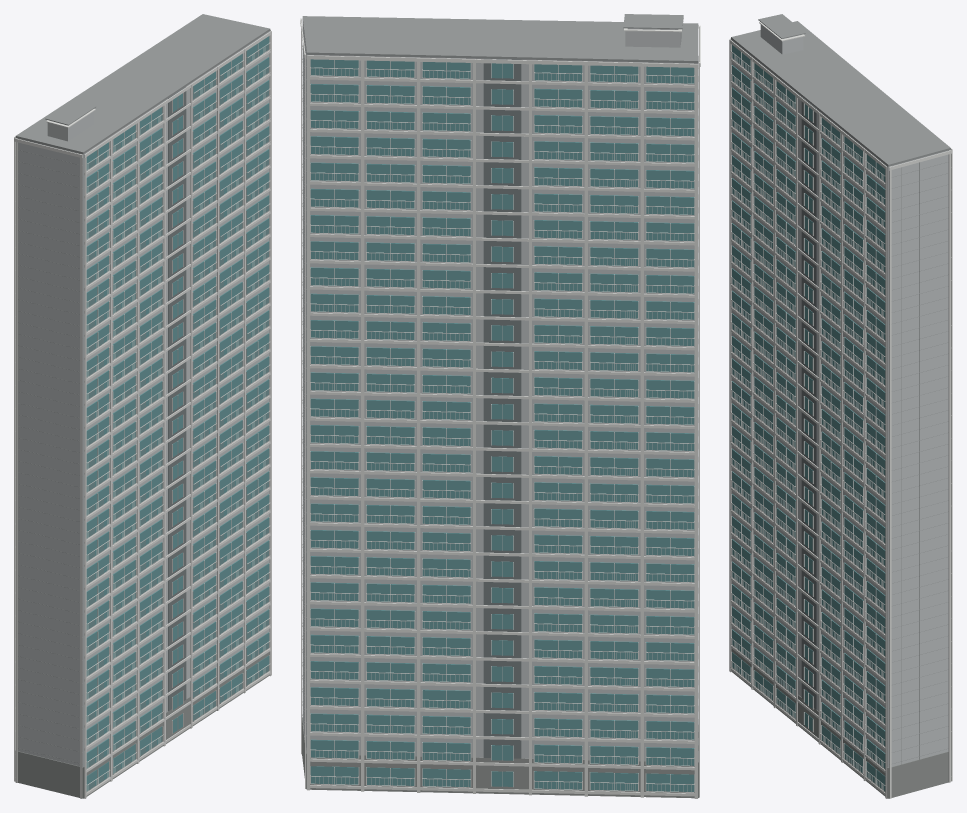
File: bespoke-jamsil-ricenz-239.glb
3 views of the same model, side by side, from view 1: azimuth 30°, elevation 25°; view 2: azimuth 150°, elevation 25°; view 3: azimuth 270°, elevation 25° (orthographic). The views are drawn at different scales.
Parts seen in each view (by area): view 1: Ricenz239_editable_Ricenz239_turquoise_balcony_glazing, Ricenz239_editable_Ricenz239_light_grey_solid_wall, Ricenz239_white_exact_chunk_2, Ricenz239_white_exact_chunk_0, Ricenz239_white_exact_chunk_1, Ricenz239_editable_Ricenz239_modest_grey_flat_roof_caps, Ricenz239_editable_Ricenz239_narrow_charcoal_service_strips, Ricenz239_editable_Ricenz239_muted_ground_wall, Ricenz239_white_exact_chunk_5; view 2: Ricenz239_editable_Ricenz239_turquoise_balcony_glazing, Ricenz239_editable_Ricenz239_light_grey_solid_wall, Ricenz239_white_exact_chunk_3, Ricenz239_white_exact_chunk_4, Ricenz239_white_exact_chunk_5, Ricenz239_editable_Ricenz239_modest_grey_flat_roof_caps, Ricenz239_editable_Ricenz239_narrow_charcoal_service_strips, Ricenz239_white_exact_chunk_2, Ricenz239_editable_Ricenz239_muted_ground_wall, Ricenz239_white_exact_chunk_0; view 3: Ricenz239_editable_Ricenz239_light_grey_solid_wall, Ricenz239_editable_Ricenz239_turquoise_balcony_glazing, Ricenz239_white_exact_chunk_2, Ricenz239_white_exact_chunk_1, Ricenz239_white_exact_chunk_0, Ricenz239_editable_Ricenz239_modest_grey_flat_roof_caps, Ricenz239_editable_Ricenz239_narrow_charcoal_service_strips, Ricenz239_editable_Ricenz239_muted_ground_wall, Ricenz239_white_exact_chunk_5.
Boxes of the visible parts, left/top/right/bottom form: Ricenz239_editable_Ricenz239_turquoise_balcony_glazing: left=86, top=36, right=269, bottom=791; Ricenz239_editable_Ricenz239_light_grey_solid_wall: left=16, top=31, right=270, bottom=767; Ricenz239_white_exact_chunk_2: left=84, top=29, right=271, bottom=798; Ricenz239_white_exact_chunk_0: left=14, top=124, right=164, bottom=798; Ricenz239_white_exact_chunk_1: left=139, top=71, right=244, bottom=742; Ricenz239_editable_Ricenz239_modest_grey_flat_roof_caps: left=15, top=14, right=270, bottom=763; Ricenz239_editable_Ricenz239_narrow_charcoal_service_strips: left=168, top=86, right=186, bottom=711; Ricenz239_editable_Ricenz239_muted_ground_wall: left=15, top=648, right=269, bottom=798; Ricenz239_white_exact_chunk_5: left=14, top=109, right=95, bottom=781; Ricenz239_editable_Ricenz239_turquoise_balcony_glazing: left=310, top=59, right=694, bottom=791; Ricenz239_editable_Ricenz239_light_grey_solid_wall: left=302, top=21, right=698, bottom=761; Ricenz239_white_exact_chunk_3: left=310, top=59, right=584, bottom=793; Ricenz239_white_exact_chunk_4: left=532, top=64, right=694, bottom=796; Ricenz239_white_exact_chunk_5: left=306, top=28, right=698, bottom=798; Ricenz239_editable_Ricenz239_modest_grey_flat_roof_caps: left=302, top=14, right=698, bottom=757; Ricenz239_editable_Ricenz239_narrow_charcoal_service_strips: left=483, top=58, right=521, bottom=758; Ricenz239_white_exact_chunk_2: left=300, top=18, right=698, bottom=788; Ricenz239_editable_Ricenz239_muted_ground_wall: left=302, top=717, right=698, bottom=798; Ricenz239_white_exact_chunk_0: left=699, top=25, right=700, bottom=797; Ricenz239_editable_Ricenz239_light_grey_solid_wall: left=731, top=24, right=950, bottom=767; Ricenz239_editable_Ricenz239_turquoise_balcony_glazing: left=732, top=45, right=885, bottom=791; Ricenz239_white_exact_chunk_2: left=729, top=39, right=951, bottom=798; Ricenz239_white_exact_chunk_1: left=775, top=80, right=863, bottom=777; Ricenz239_white_exact_chunk_0: left=730, top=38, right=795, bottom=722; Ricenz239_editable_Ricenz239_modest_grey_flat_roof_caps: left=731, top=14, right=950, bottom=764; Ricenz239_editable_Ricenz239_narrow_charcoal_service_strips: left=801, top=97, right=817, bottom=709; Ricenz239_editable_Ricenz239_muted_ground_wall: left=731, top=644, right=951, bottom=798; Ricenz239_white_exact_chunk_5: left=759, top=22, right=952, bottom=781.
Bounding box in the file's own units: 40.42 × 84.42 × 26.22.
